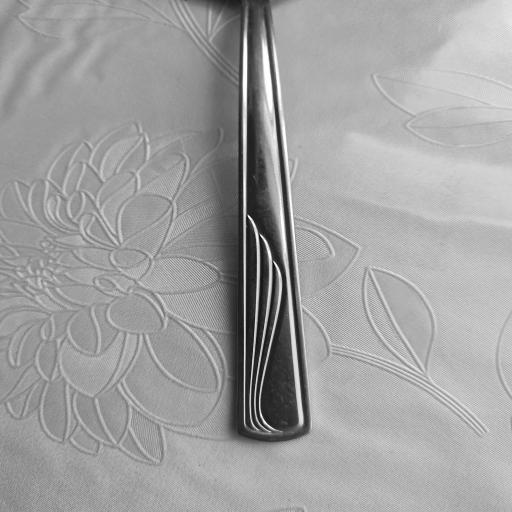spoon: (192, 0, 327, 439)
